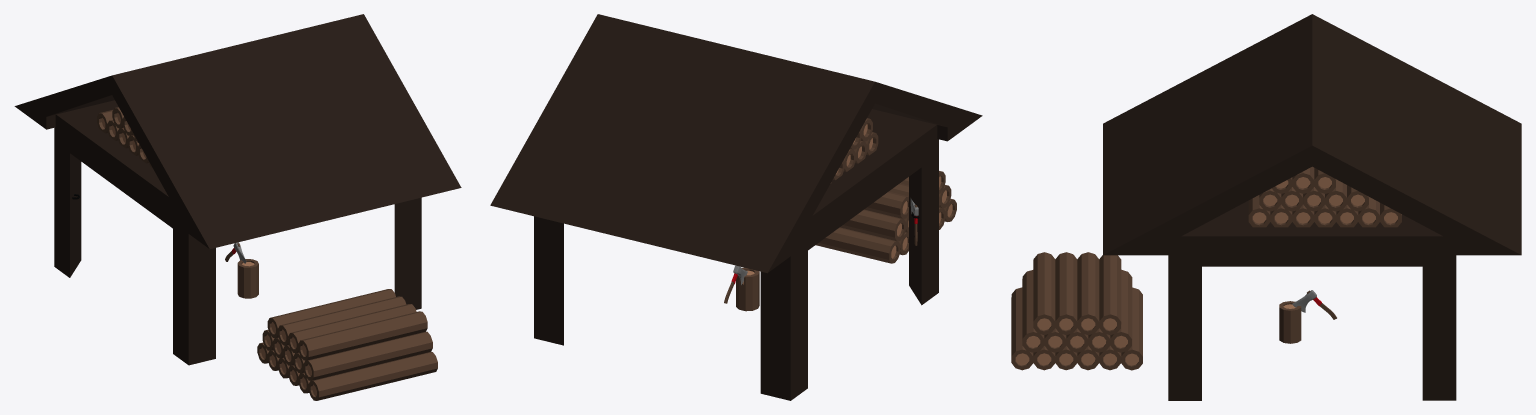
Rendered from Tartak.fbx.
3 renders of one model, left to right at view 1: azimuth 30°, elevation 25°; view 2: azimuth 150°, elevation 25°; view 3: azimuth 270°, elevation 25°, orthographic. The views are drawn at different scales.
Parts seen in each view (by area): view 1: Torus.003; view 2: Torus.003; view 3: Torus.003.
Part boxes in pixels (x1=…): Torus.003: x1=14, y1=14, x2=461, y2=400; Torus.003: x1=490, y1=14, x2=982, y2=400; Torus.003: x1=1011, y1=14, x2=1521, y2=400.
Bounding box in the file's own units: 591 × 545 × 968.
